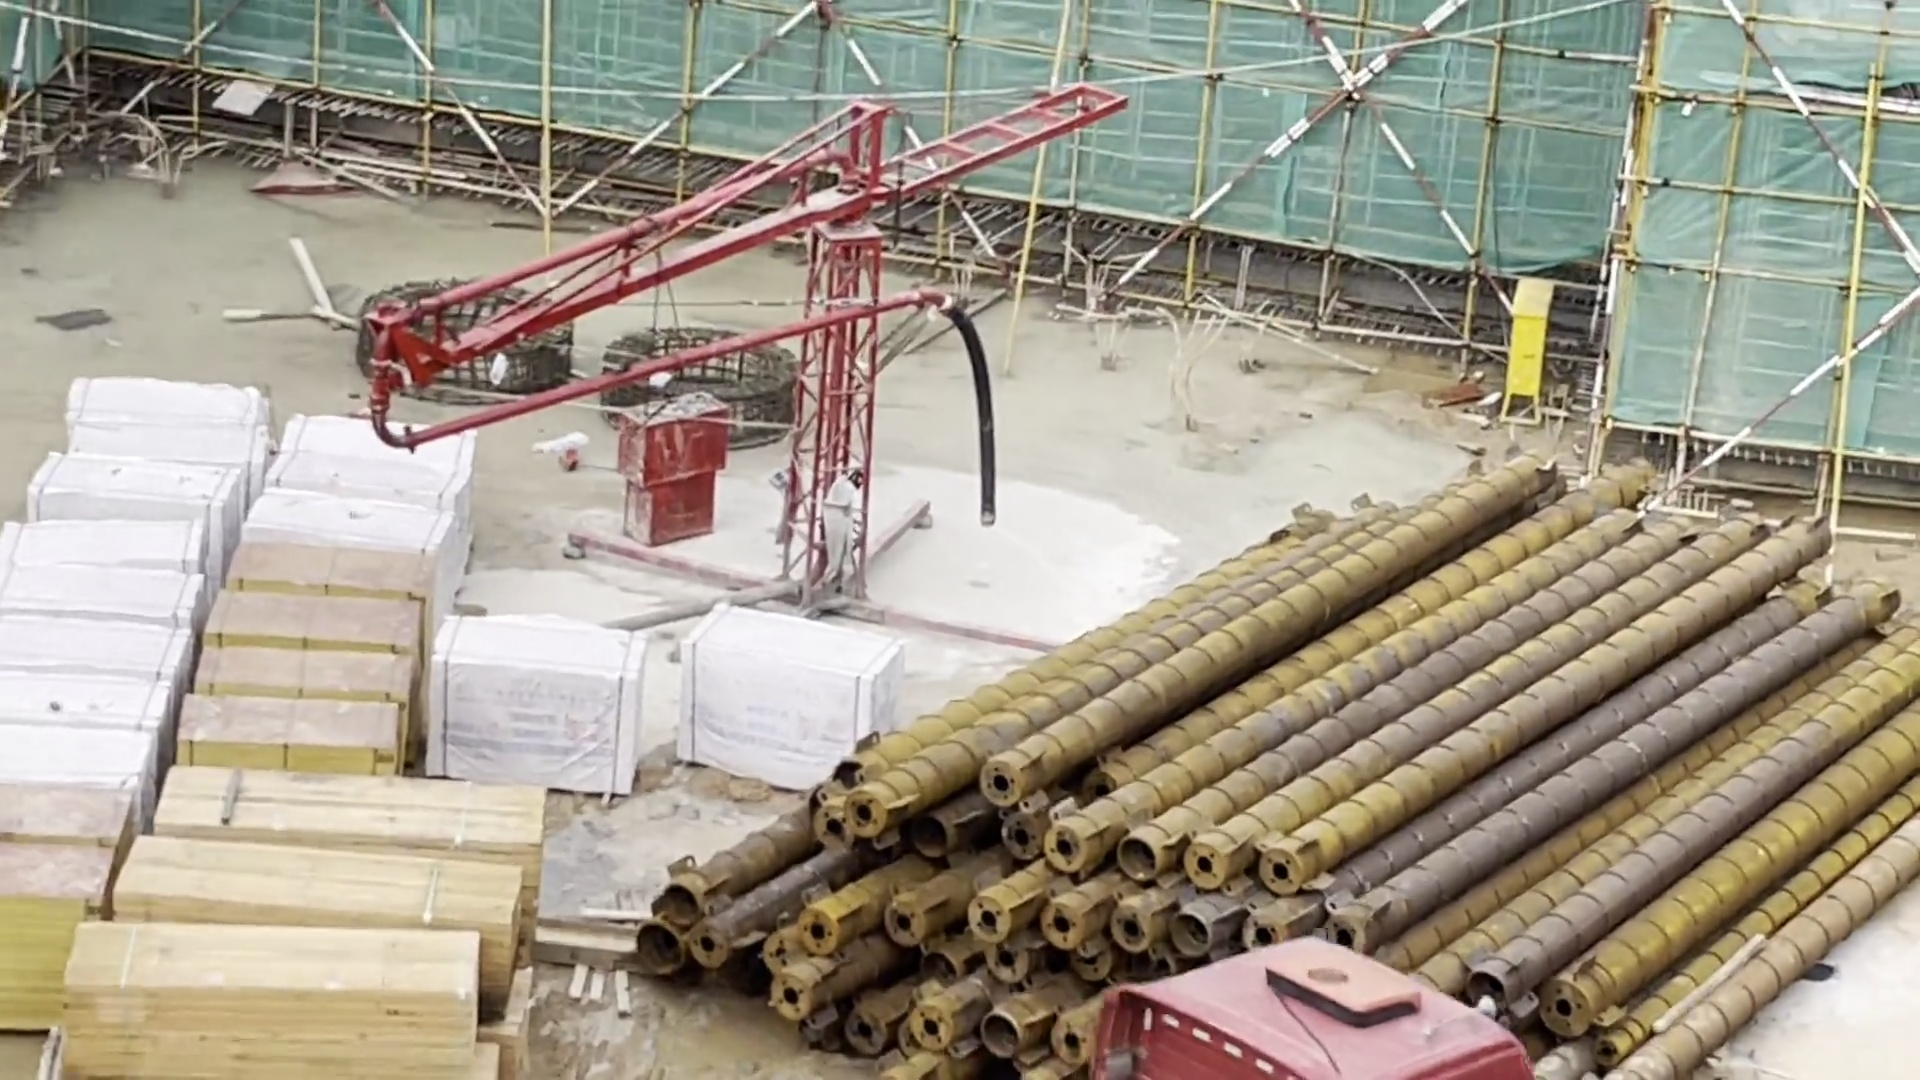ebox: (1501, 276, 1553, 430)
wood: (61, 764, 539, 1080)
